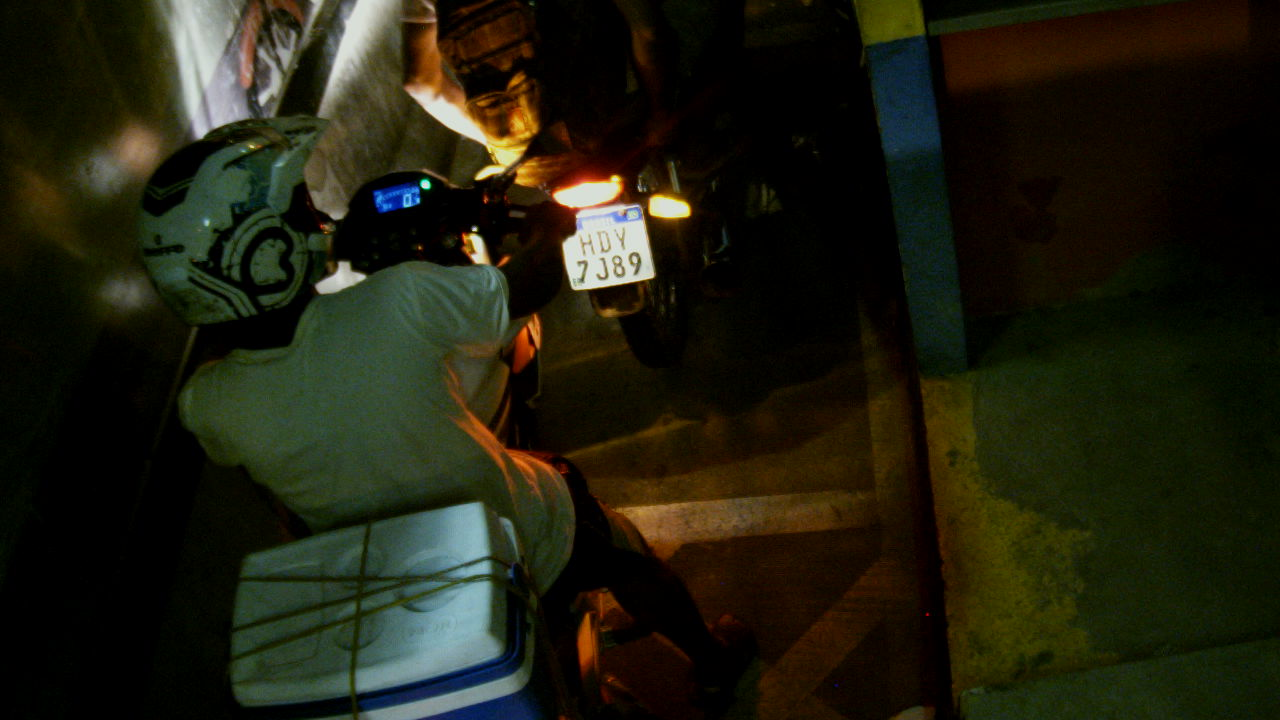placa: (552, 203, 659, 294)
